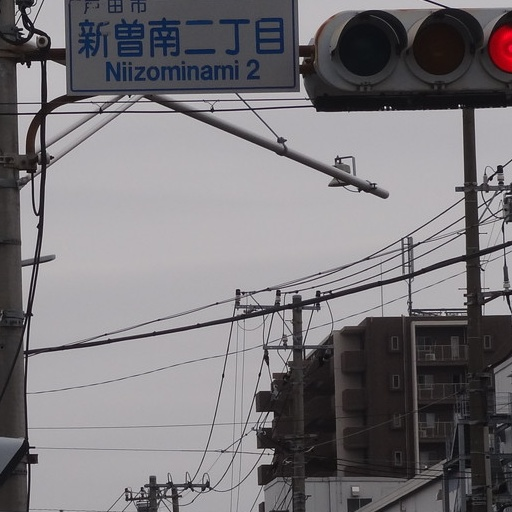Traffic_Signal_Red: (312, 10, 511, 97)
